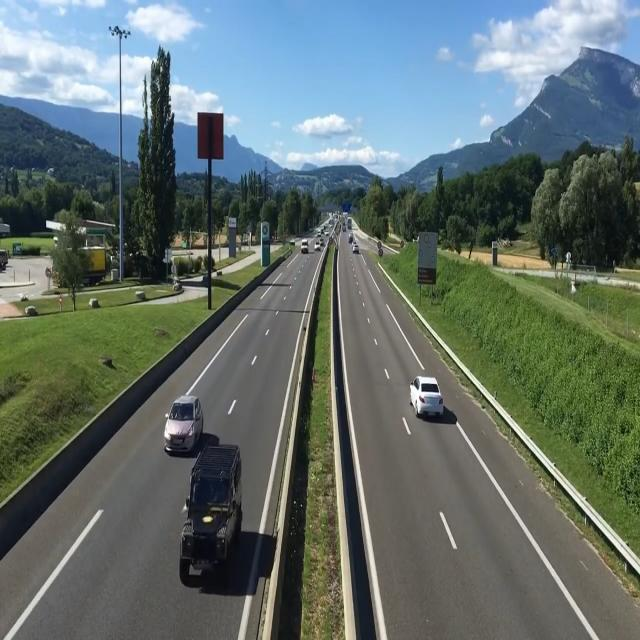car: (180, 440, 243, 606), (162, 390, 202, 457), (410, 374, 448, 424)
